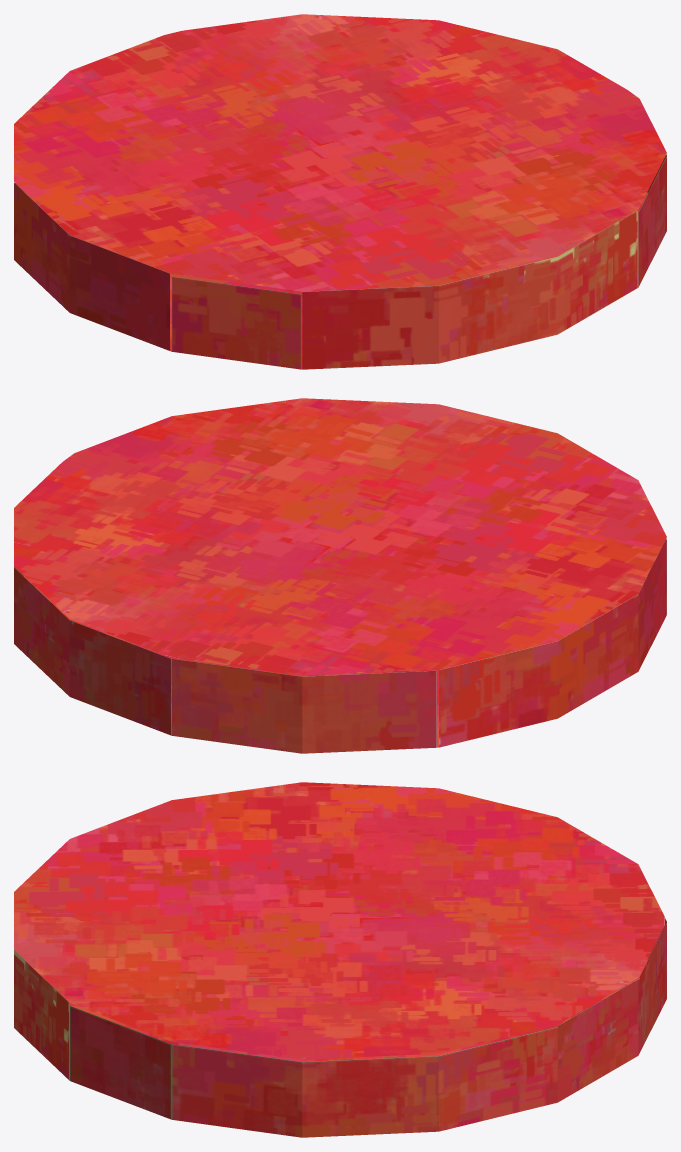
The model's file is steack.fbx.
3 views of the same model, one above another, from view 1: azimuth 30°, elevation 25°; view 2: azimuth 150°, elevation 25°; view 3: azimuth 270°, elevation 25° (orthographic).
Visible parts, largest first — view 1: cylinder; view 2: cylinder; view 3: cylinder.
Boxes of the visible parts, x1,y1,x2,y2 form: cylinder: (14, 14, 666, 369); cylinder: (14, 398, 666, 753); cylinder: (14, 782, 666, 1137).
Bounding box in the file's own units: 95.32 × 12.5 × 94.8.
1 material, 1 textured.
